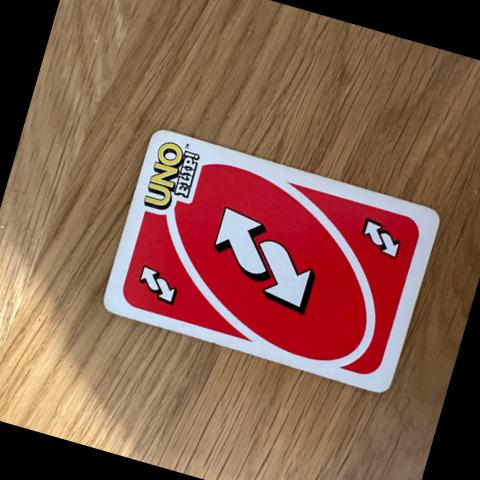4_red: (208, 192, 324, 317), (354, 212, 407, 266), (132, 259, 184, 313)
